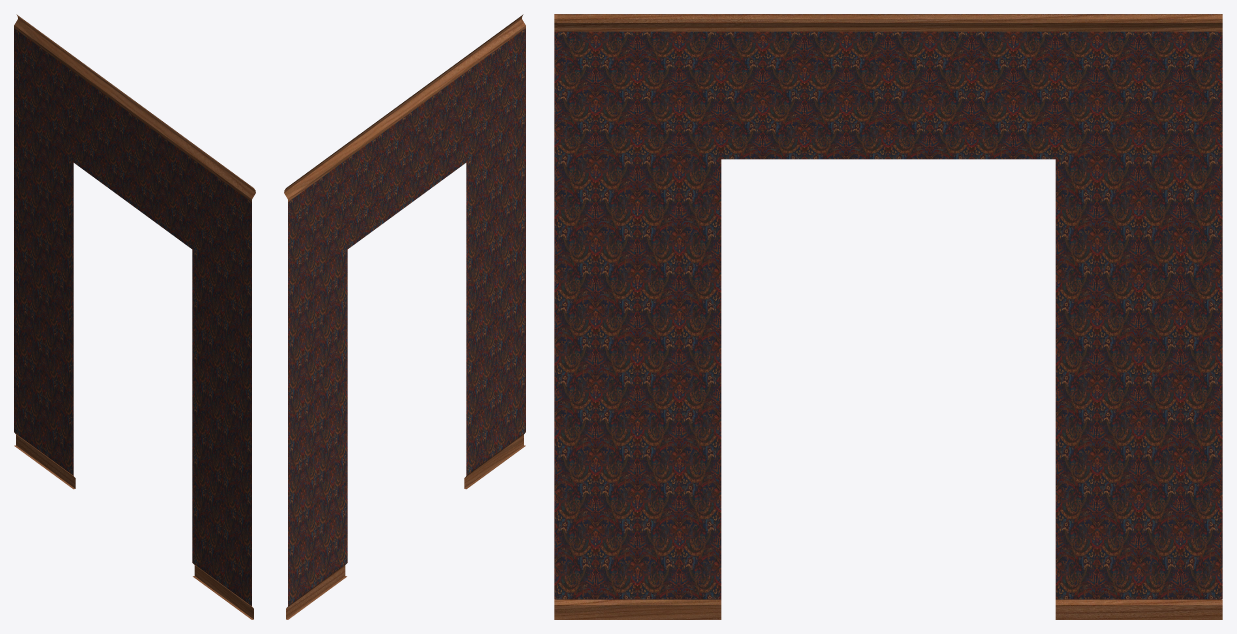
Rendered from flower_power1_door.dae.
3 views of the same model, side by side, from view 1: azimuth 30°, elevation 25°; view 2: azimuth 150°, elevation 25°; view 3: azimuth 270°, elevation 25° (orthographic). The views are drawn at different scales.
Visible parts, largest first — view 1: Plane_005; view 2: Plane_005; view 3: Plane_005.
Part boxes in pixels (x1,y1,x2,y2): Plane_005: (14, 14, 255, 619); Plane_005: (284, 14, 525, 619); Plane_005: (554, 14, 1222, 619).
Size of the model in its own units: 0.0388 by 4 by 4.
Materials: 1 (1 with a texture image).
